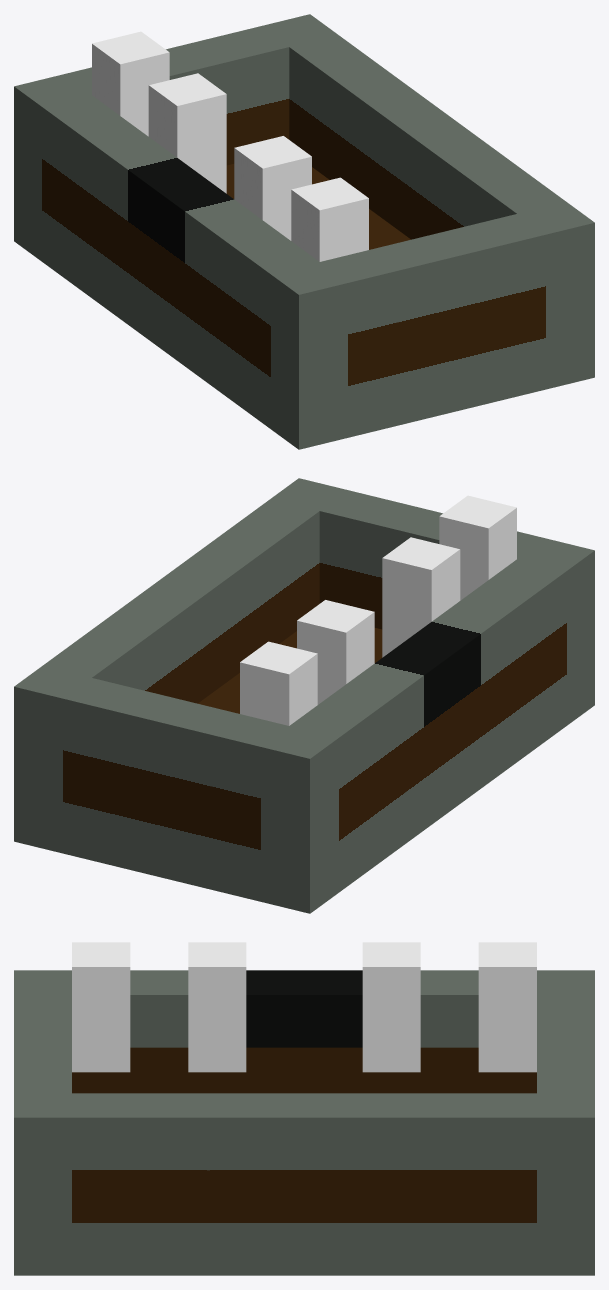
The model's file is MimicBottomHalf.dae.
3 renders of one model, top to bottom at view 1: azimuth 30°, elevation 25°; view 2: azimuth 150°, elevation 25°; view 3: azimuth 270°, elevation 25°, orthographic.
Parts seen in each view (by area): view 1: MimicBottomHalf; view 2: MimicBottomHalf; view 3: MimicBottomHalf.
Part boxes in pixels (left/top/right/bottom): MimicBottomHalf: left=14, top=14, right=594, bottom=449; MimicBottomHalf: left=14, top=478, right=594, bottom=913; MimicBottomHalf: left=14, top=942, right=594, bottom=1275.
Size of the model in its own units: 0.6 by 1 by 0.4.
1 material, 1 textured.
